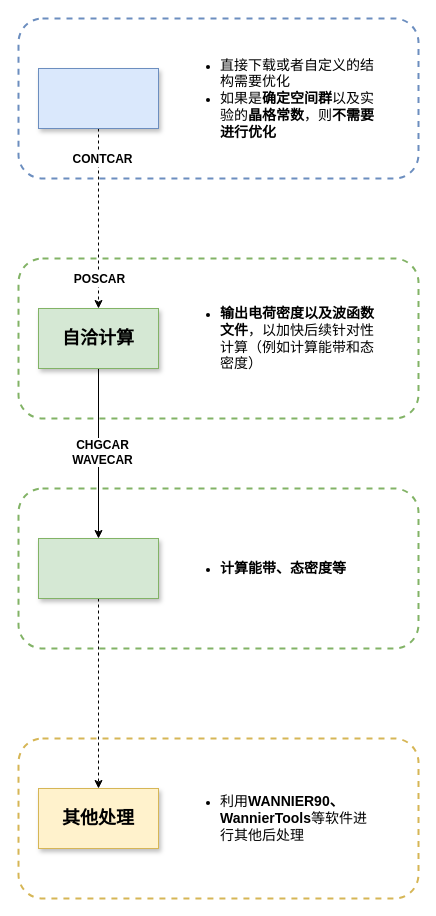
Image size: 436x916. Some labels were removed from this diagram. Here are the shapes that lost their labels. From the top down, the centre of each, then its label:
[99,100]: 结构优化
[99,570]: 非自洽计算
